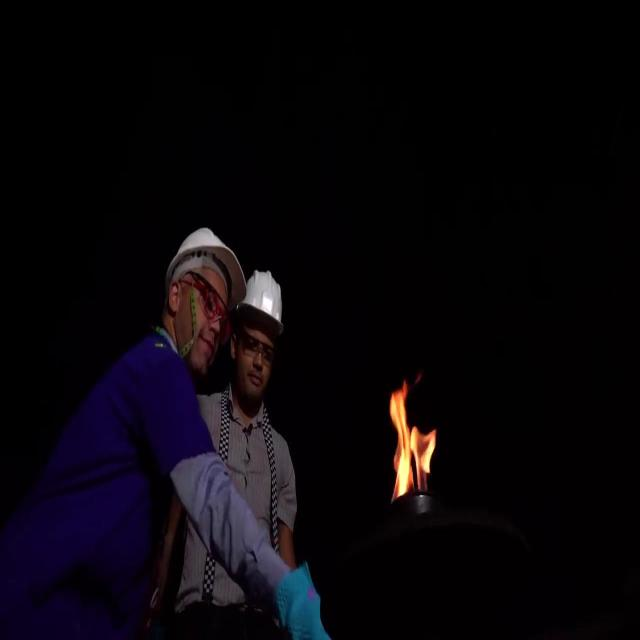Fire: (386, 372, 436, 491)
